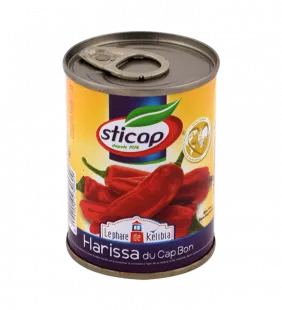STICAP: (52, 20, 228, 291)
